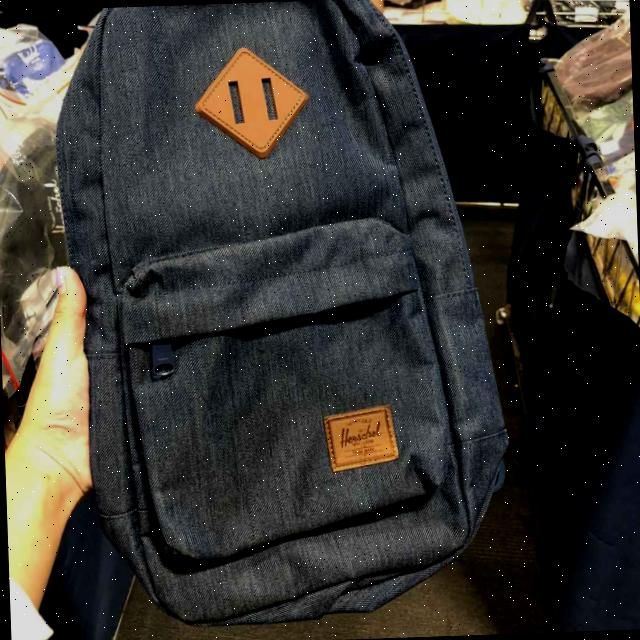Handbag: (37, 0, 525, 637)
